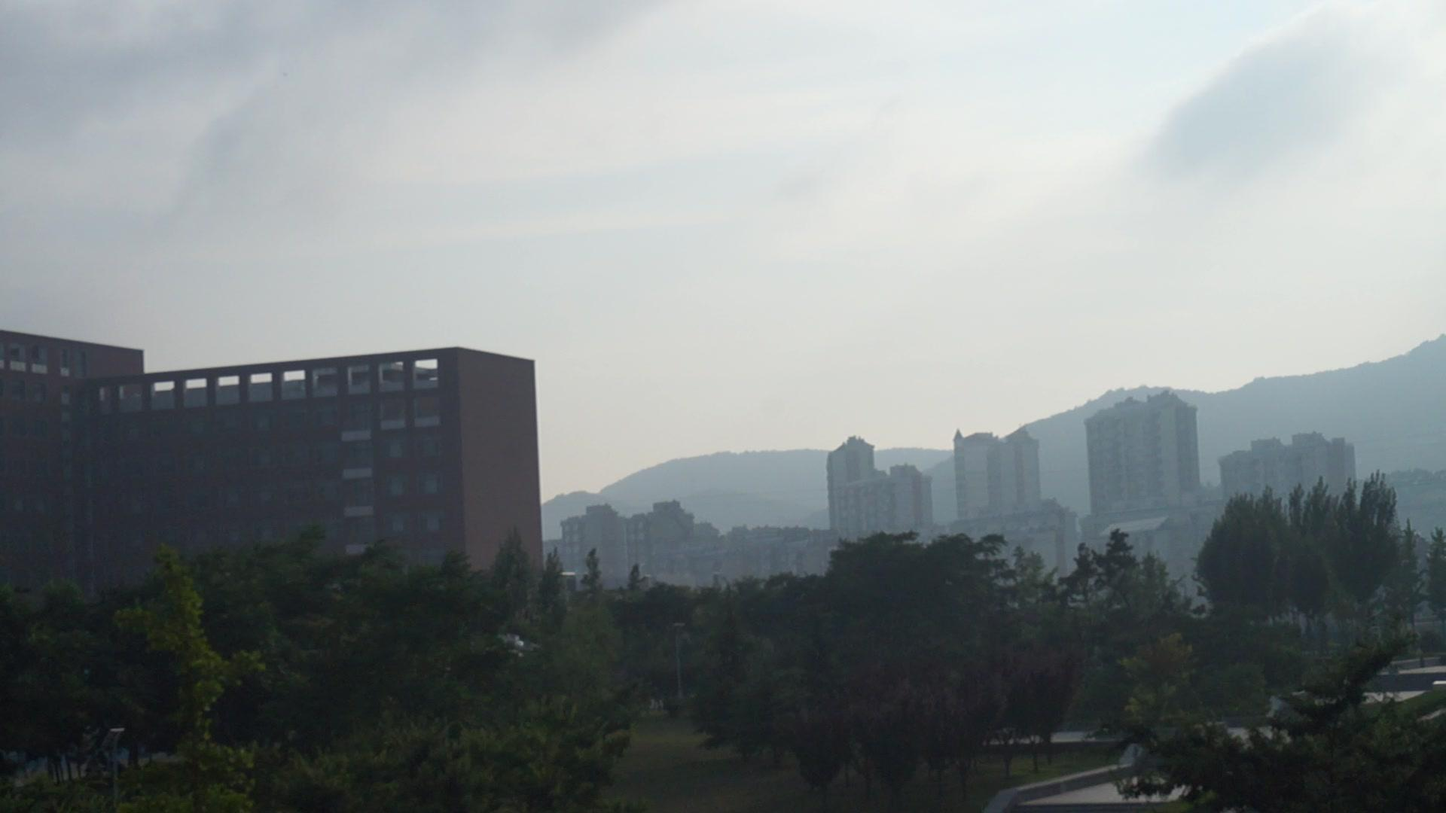UAV: (497, 635, 542, 658)
